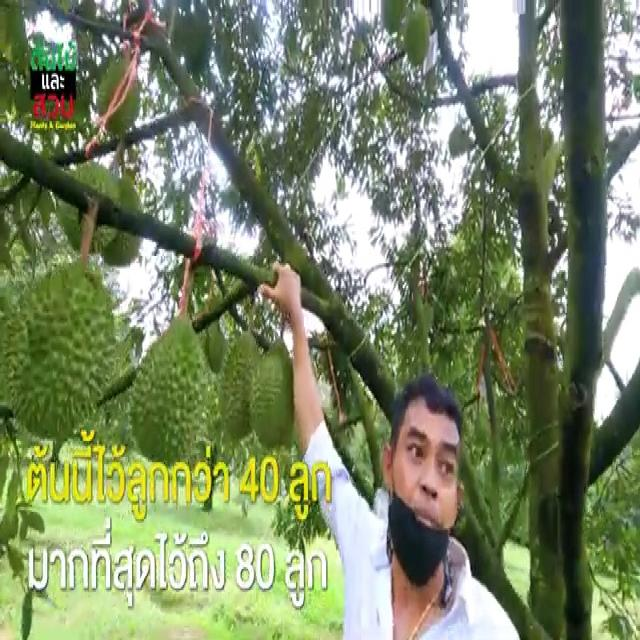durian: (5, 256, 121, 448), (126, 310, 213, 472), (55, 160, 122, 255), (217, 327, 268, 443), (248, 340, 299, 454), (95, 174, 146, 269), (94, 53, 144, 140), (402, 5, 434, 68)
